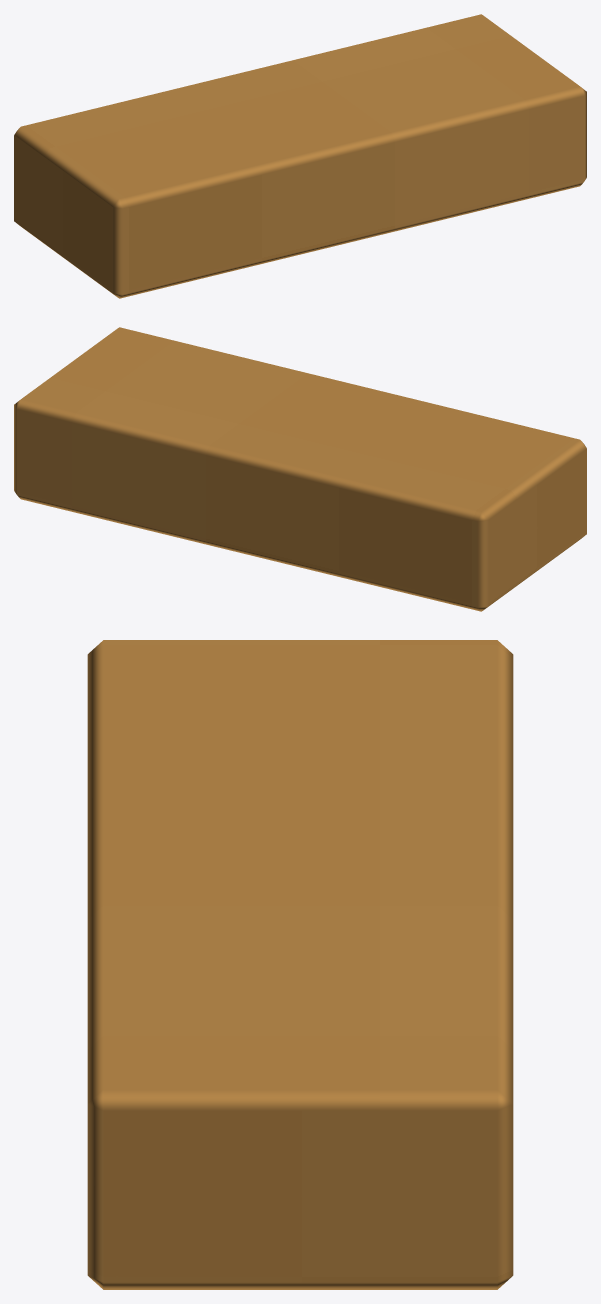
File: Dispenser-lever.glb
3 renders of one model, top to bottom at view 1: azimuth 30°, elevation 25°; view 2: azimuth 150°, elevation 25°; view 3: azimuth 270°, elevation 25°, orthographic. The views are drawn at different scales.
Visible parts, largest first — view 1: Dispenser-lever; view 2: Dispenser-lever; view 3: Dispenser-lever.
Part boxes in pixels (left/top/right/bottom): Dispenser-lever: left=14, top=14, right=586, bottom=298; Dispenser-lever: left=14, top=327, right=586, bottom=611; Dispenser-lever: left=87, top=640, right=513, bottom=1289.
Size of the model in its own units: 0.139 by 0.028 by 0.054.
1 material, 1 textured.
